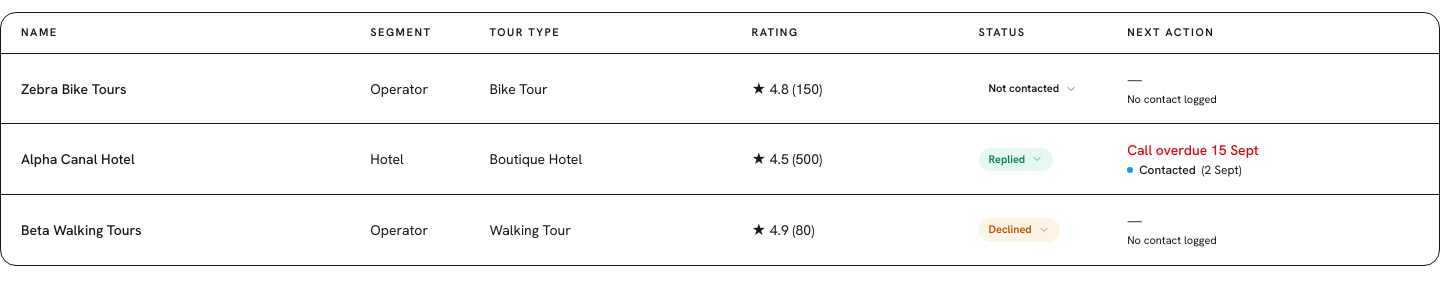
it: OutreachProspectsTable › allows resetting sort using the reset button
This screenshot has width=1440, height=307.
Click the button "Name" at (48, 33), box [15,21,82,45]
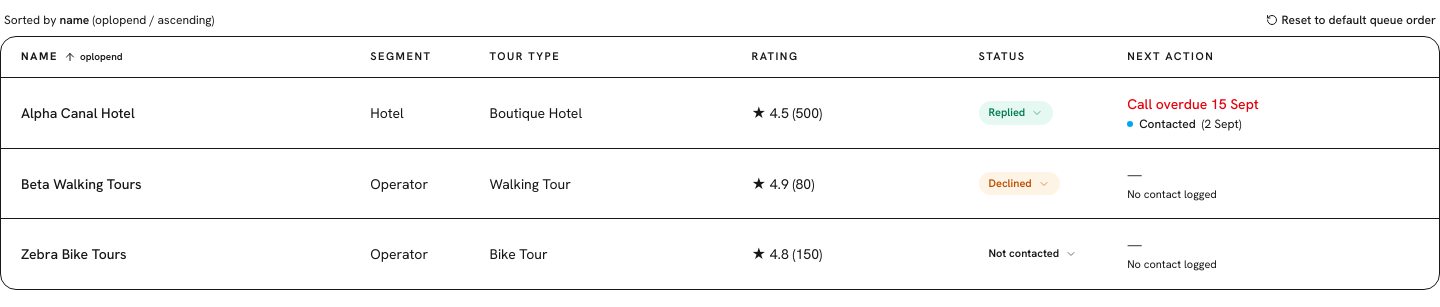
Check: the button "Reset to default queue order" is shown
Click the button "Reset to default queue order" at (1351, 20), box [1266,12,1436,28]
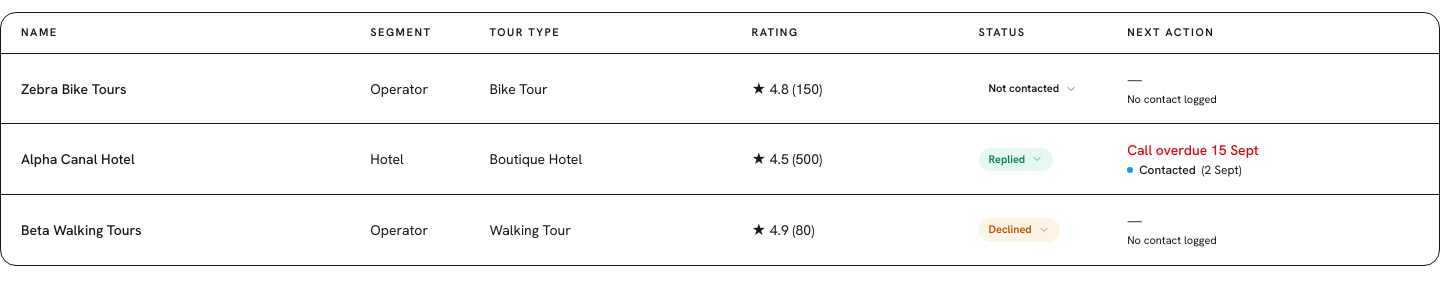
Check: the button "Reset to default queue order" is gone
